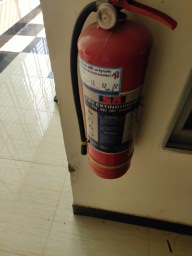fire_extinguisher: (0, 19, 135, 158)
